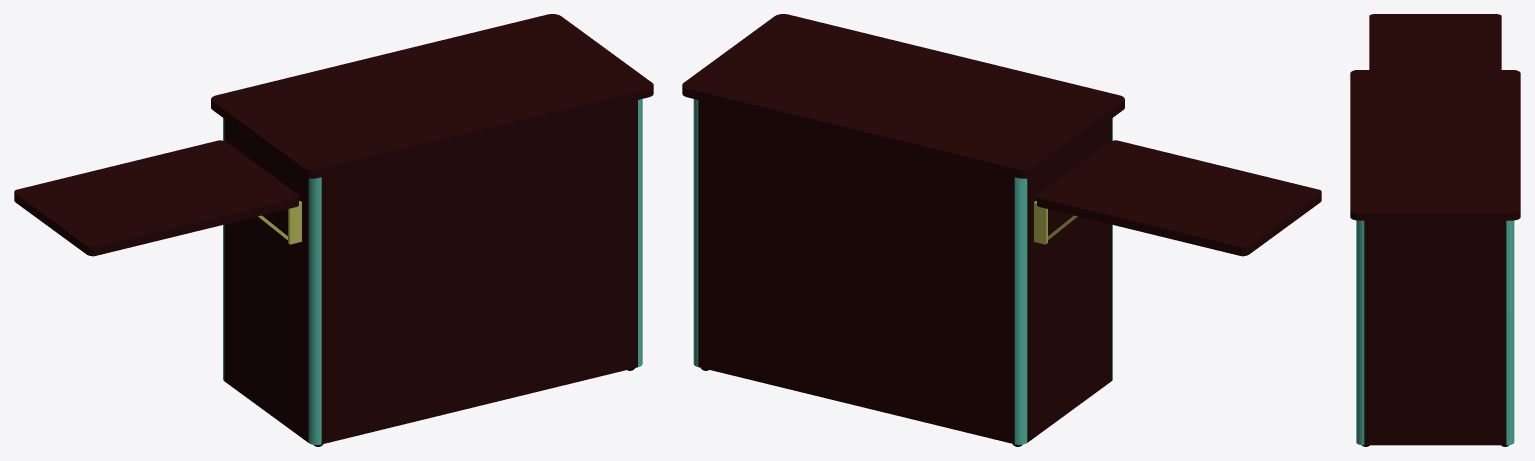
3 views of the same model, side by side, from view 1: azimuth 30°, elevation 25°; view 2: azimuth 150°, elevation 25°; view 3: azimuth 270°, elevation 25° (orthographic). The views are drawn at different scales.
Visible parts, largest first — view 1: lectern (×2), lectern_top, lectern_arm; view 2: lectern (×2), lectern_top, lectern_arm; view 3: lectern (×2), lectern_top, lectern_arm.
Boxes of the visible parts, x1,y1,x2,y2 form: lectern (×2): (223, 99, 642, 444); lectern_top: (211, 14, 653, 178); lectern_arm: (14, 140, 298, 256); lectern (×2): (693, 99, 1112, 444); lectern_top: (682, 14, 1124, 178); lectern_arm: (1037, 140, 1321, 256); lectern (×2): (1356, 220, 1514, 445); lectern_top: (1350, 70, 1520, 220); lectern_arm: (1369, 14, 1501, 69).
Size of the model in its own units: 2 by 0.9835 by 0.6309.
